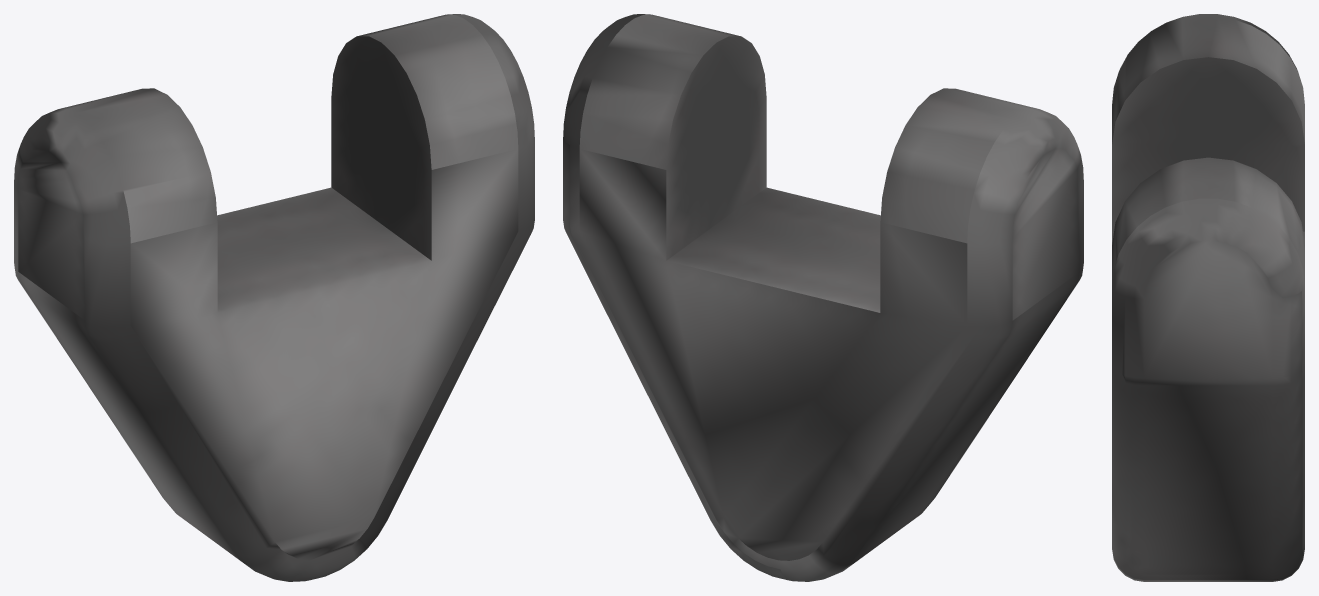
The model's file is mtorso.dae.
3 views of the same model, side by side, from view 1: azimuth 30°, elevation 25°; view 2: azimuth 150°, elevation 25°; view 3: azimuth 270°, elevation 25° (orthographic). The views are drawn at different scales.
Visible parts, largest first — view 1: p34946; view 2: p34946; view 3: p34946.
Boxes of the visible parts, bbox=[...] form: p34946: bbox=[14, 14, 534, 581]; p34946: bbox=[563, 14, 1083, 581]; p34946: bbox=[1112, 14, 1304, 581].
Bounding box in the file's own units: 0.077 × 0.03 × 0.0799.
